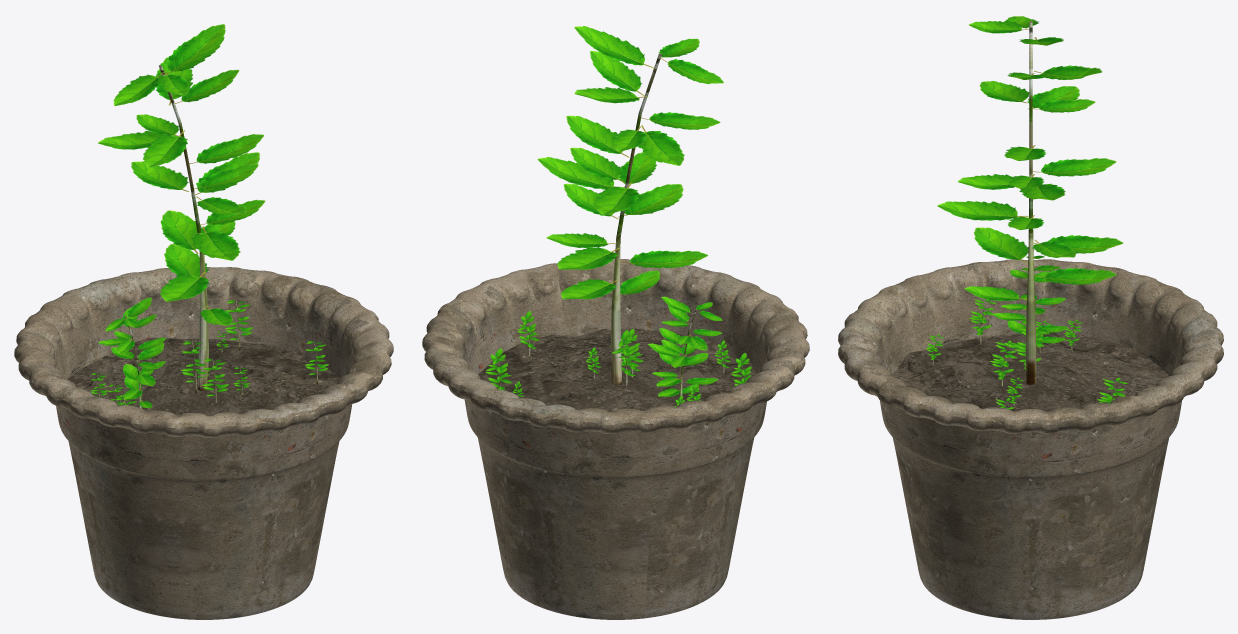
Rendered from tulsi-real-v1.glb.
3 renders of one model, left to right at view 1: azimuth 30°, elevation 25°; view 2: azimuth 150°, elevation 25°; view 3: azimuth 270°, elevation 25°, orthographic. The views are drawn at different scales.
Parts seen in each view (by area): view 1: Plant_Tulsi; view 2: Plant_Tulsi; view 3: Plant_Tulsi.
Boxes of the visible parts, box(x1,y1,x2,y2) form: Plant_Tulsi: box(14, 24, 393, 619); Plant_Tulsi: box(422, 26, 809, 619); Plant_Tulsi: box(838, 16, 1223, 619).
Bounding box in the file's own units: 0.9649 × 1.51 × 0.9649.
Materials: 4 (4 with a texture image).
